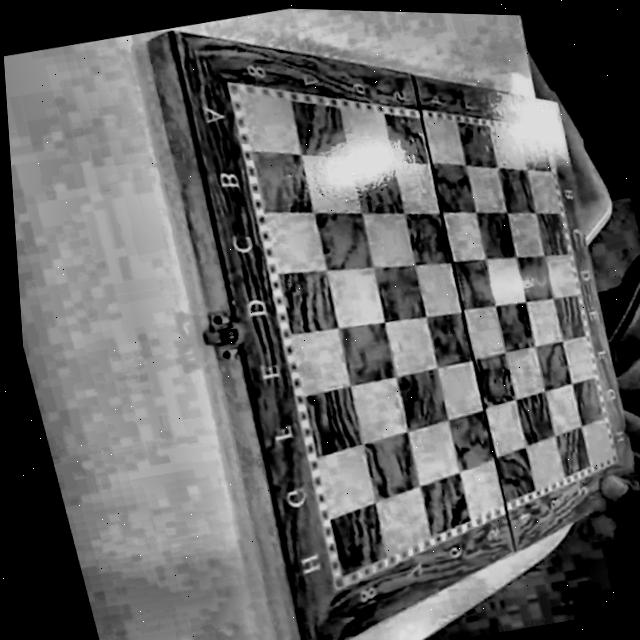chessboard: (167, 31, 640, 640)
